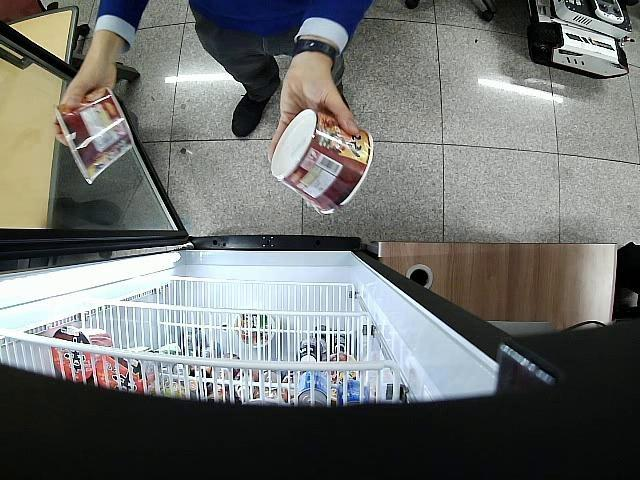05_nuguri_L: (271, 108, 374, 210), (55, 88, 134, 184)
